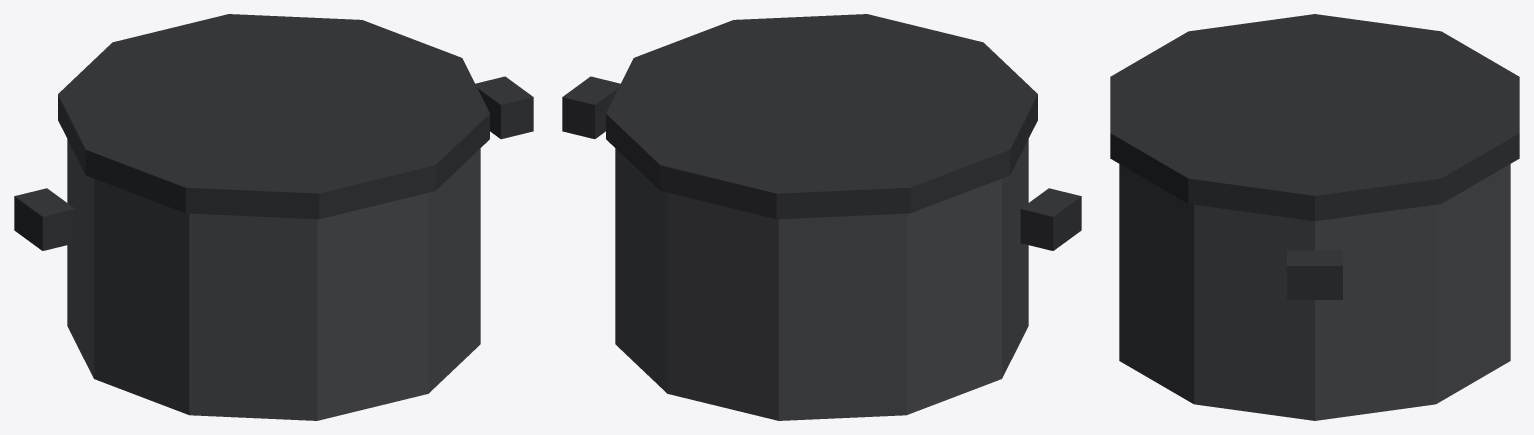
File: SM_Prop_Pot_01.glb
The picture shows the model from 3 angles, left to right: view 1: azimuth 30°, elevation 25°; view 2: azimuth 150°, elevation 25°; view 3: azimuth 270°, elevation 25°; orthographic projection.
Visible parts, largest first — view 1: SM_Prop_Pot_01; view 2: SM_Prop_Pot_01; view 3: SM_Prop_Pot_01.
Part boxes in pixels (x1=…): SM_Prop_Pot_01: x1=14, y1=14, x2=533, y2=420; SM_Prop_Pot_01: x1=562, y1=14, x2=1081, y2=420; SM_Prop_Pot_01: x1=1110, y1=14, x2=1519, y2=420.
Bounding box in the file's own units: 0.6 × 0.27 × 0.4375.
Materials: 1 (1 with a texture image).
